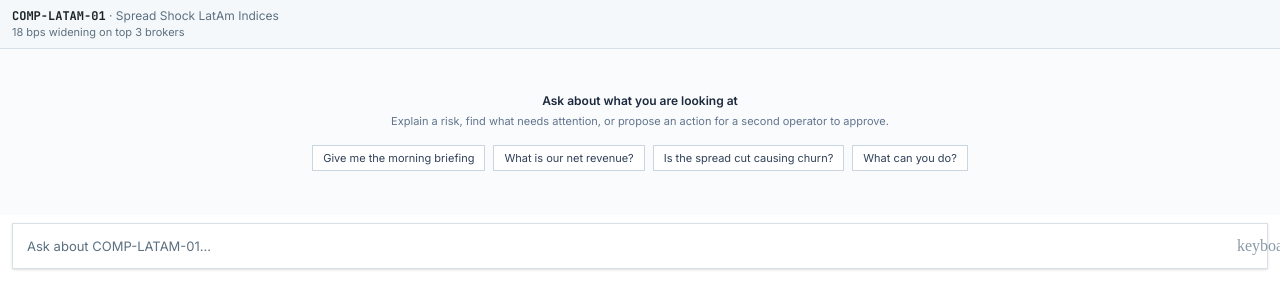
it: an ADK assistant answer in the chat › says blocked, with the reason
This screenshot has width=1280, height=298.
In the text box named "Ask the copilot": (621, 246) [13,224,1229,268], type "What is the discrepancy?"
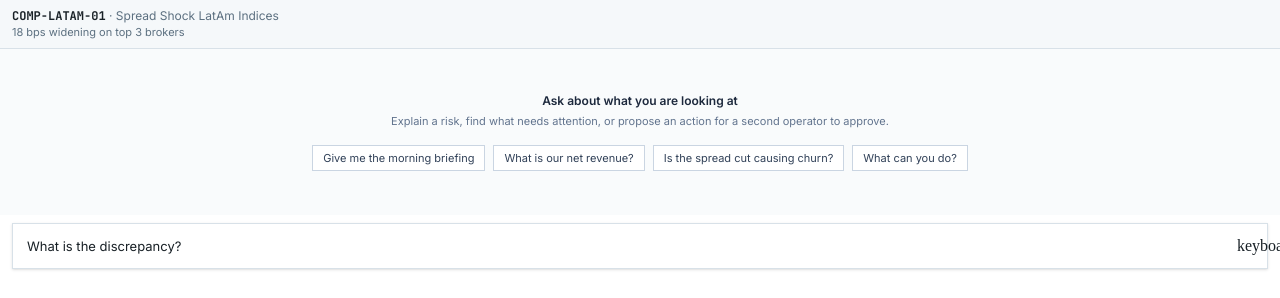
Submit the form named "Ask the copilot", box [0,215,1279,281]
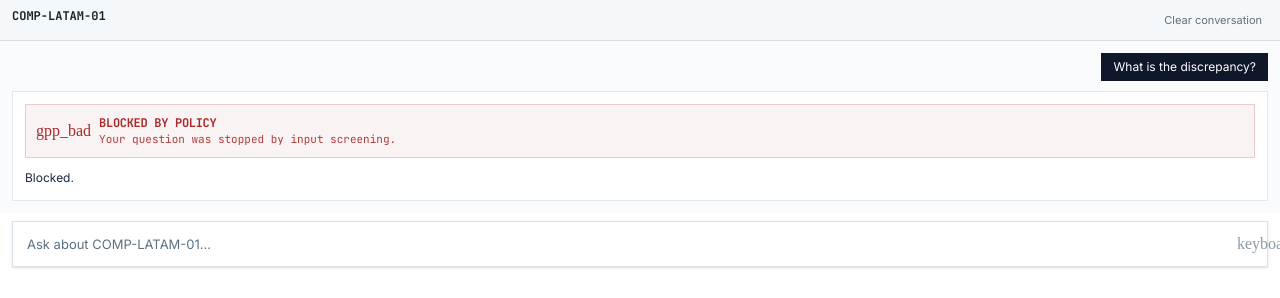
Result: the text "BLOCKED BY POLICY" is shown at [99,115,216,131]
Result: the text "Your question was stopped by input screening." is shown at [99,131,396,147]
